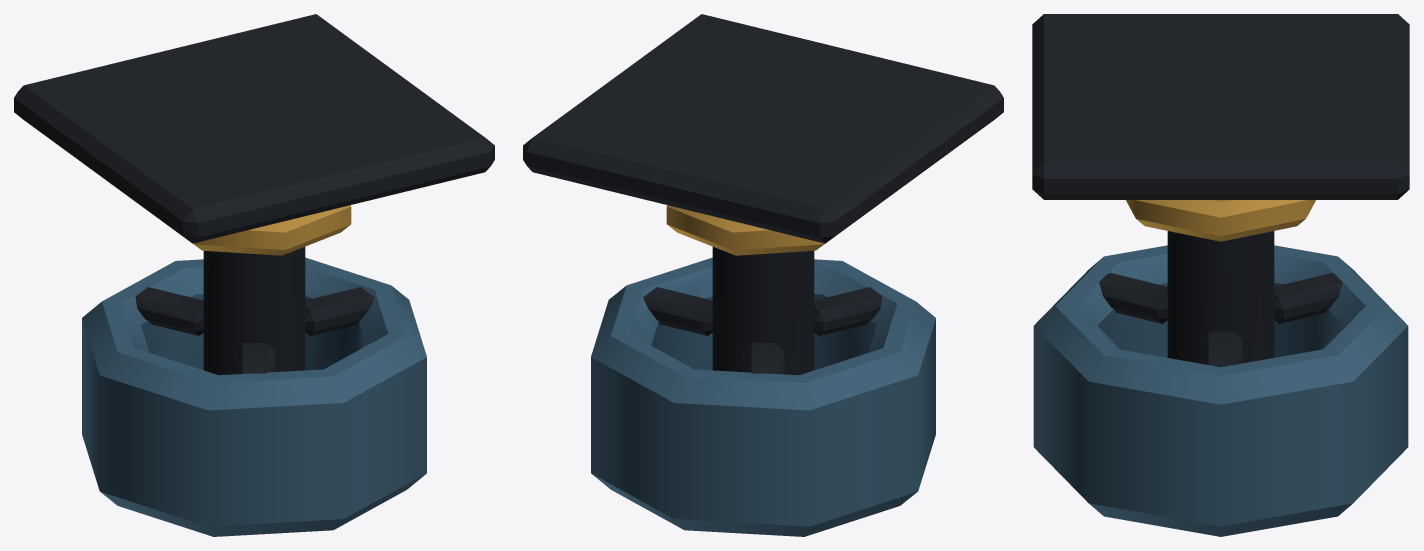
The model's file is R4M_HoverEngine_LOD1.glb.
3 renders of one model, left to right at view 1: azimuth 30°, elevation 25°; view 2: azimuth 150°, elevation 25°; view 3: azimuth 270°, elevation 25°, orthographic. The views are drawn at different scales.
Parts seen in each view (by area): view 1: R4M_HoverEngine_LOD1; view 2: R4M_HoverEngine_LOD1; view 3: R4M_HoverEngine_LOD1.
Part boxes in pixels (x1,y1,x2,y2): R4M_HoverEngine_LOD1: (14, 14, 494, 536); R4M_HoverEngine_LOD1: (523, 14, 1003, 536); R4M_HoverEngine_LOD1: (1032, 14, 1409, 536).
Size of the model in its own units: 0.52 by 0.575 by 0.52.
